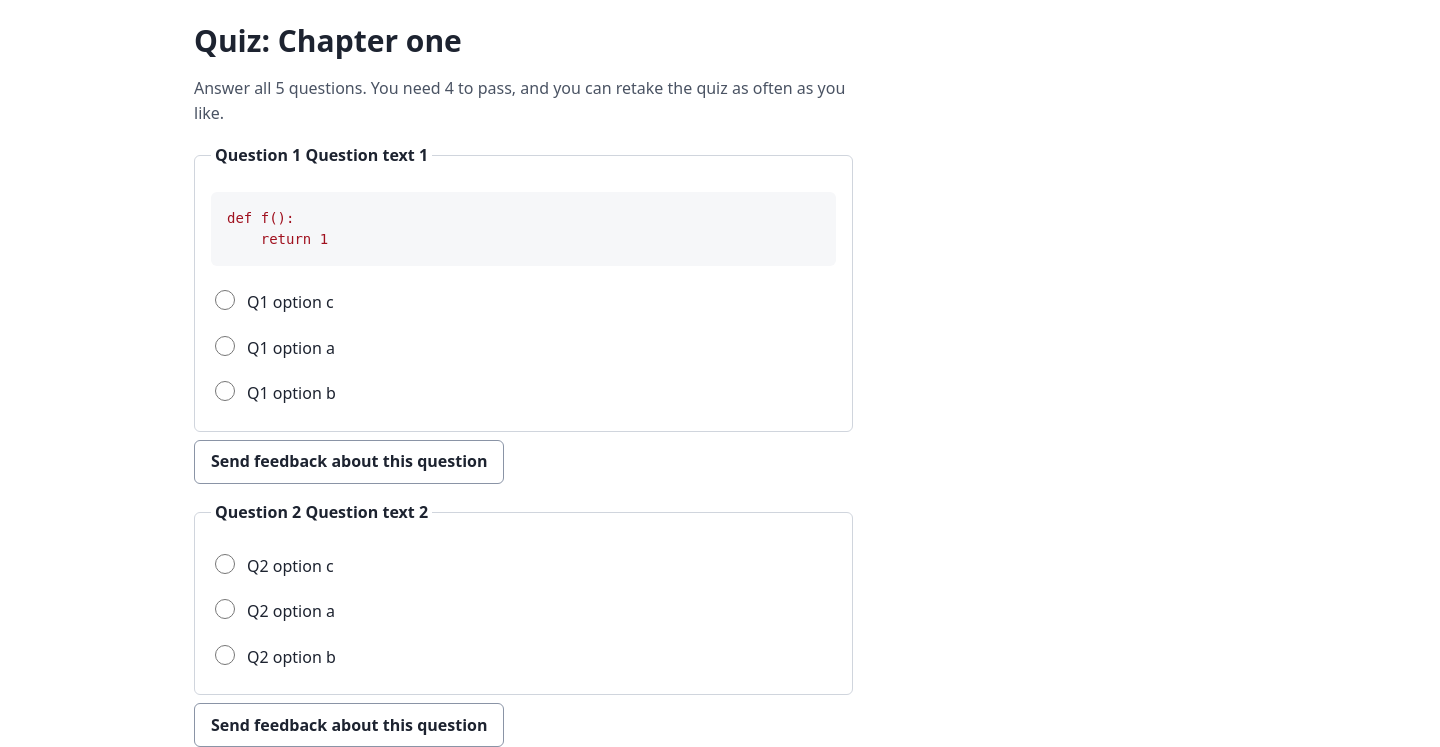
Test: no answer key reaches the snippet's highlighter, the page or the log › asks the highlighter for nothing more on the review after a failed attempt
Click the radio button labelled "Q1 option b" at (225, 392), box [215,382,235,402]
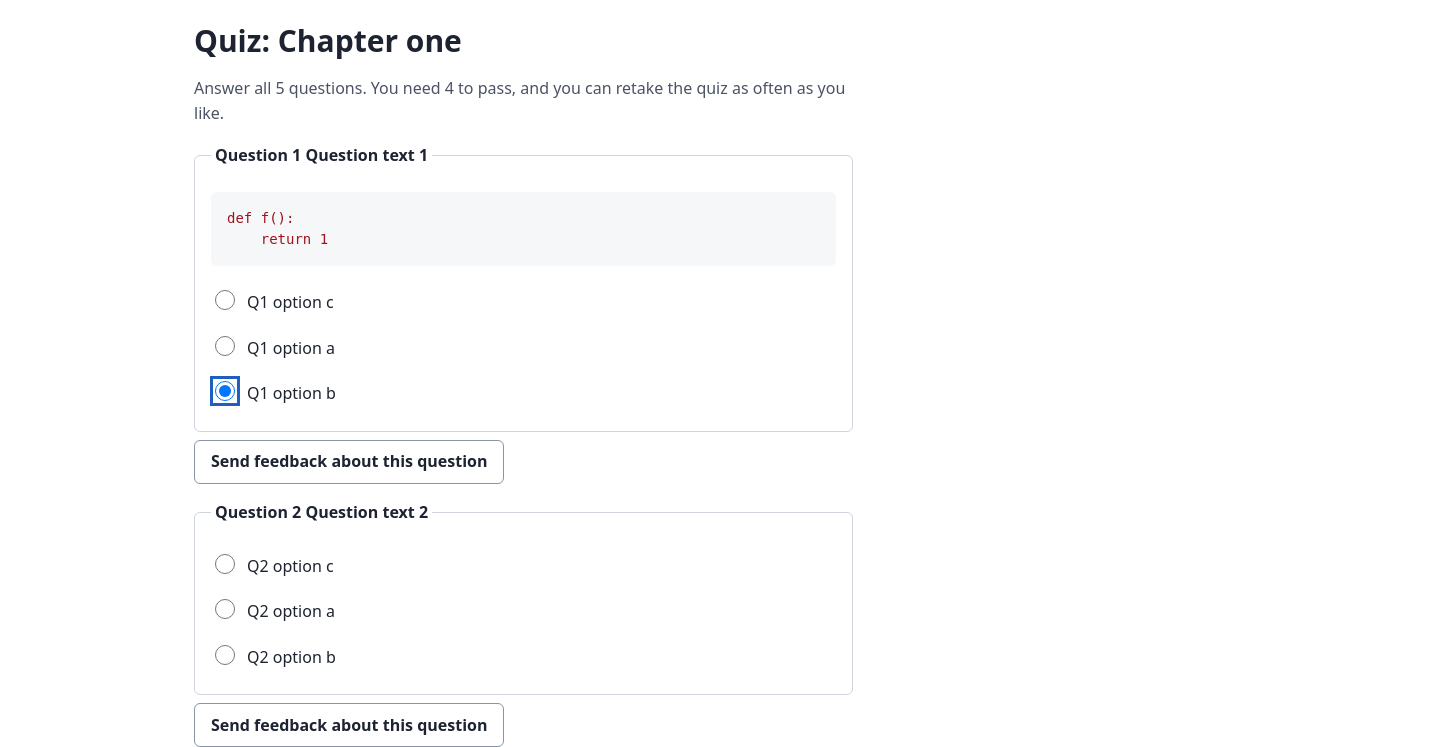
Click the radio button labelled "Q2 option b" at (225, 655), box [215,645,235,665]
(page scrolled)
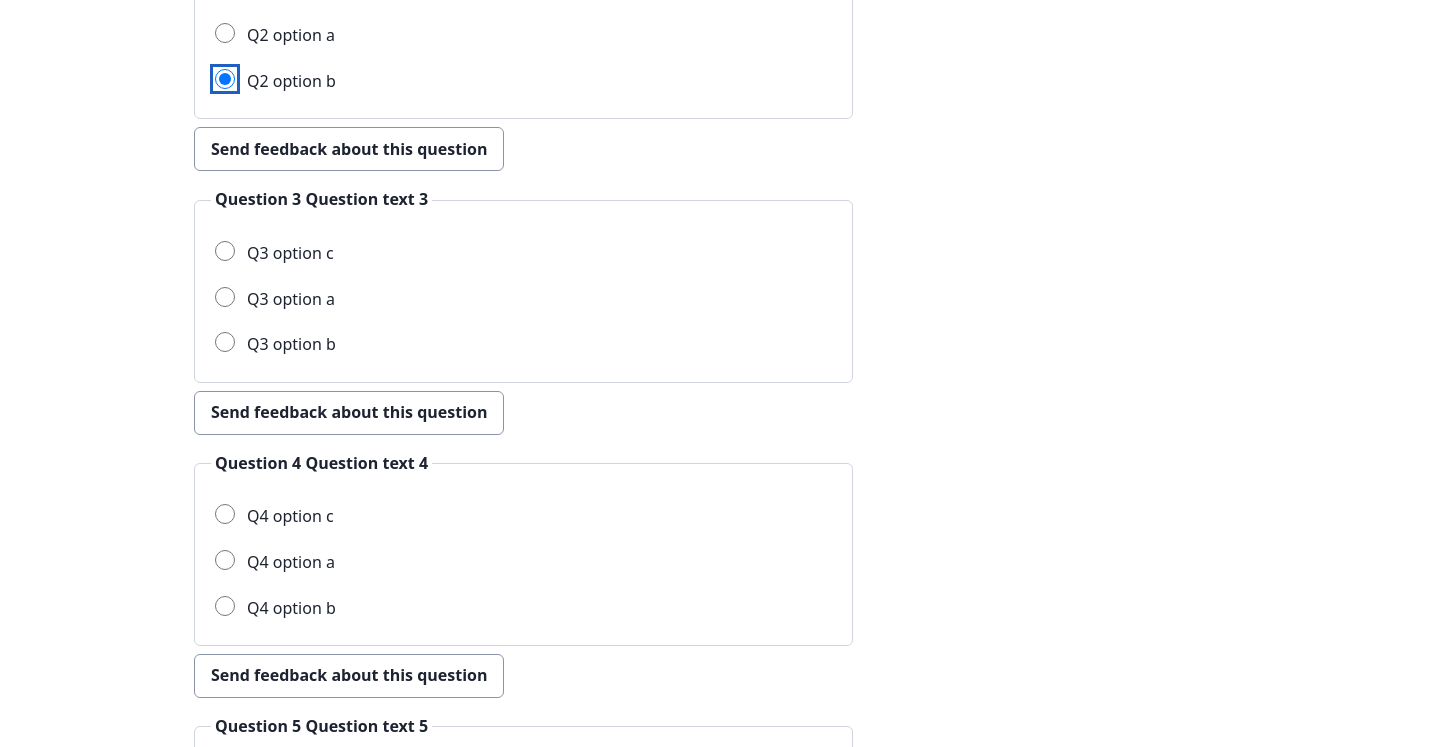
Click the radio button labelled "Q3 option b" at (225, 342), box [215,332,235,352]
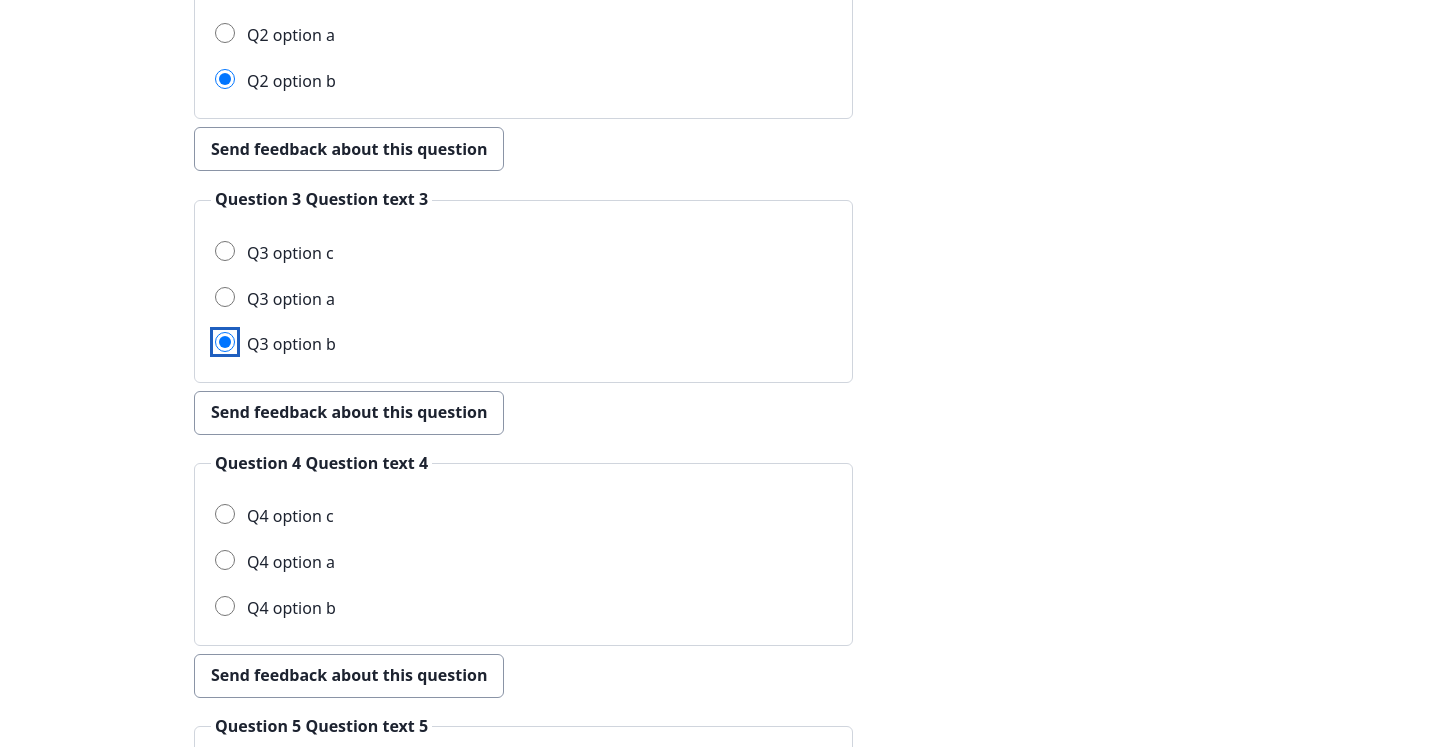
Click the radio button labelled "Q4 option b" at (225, 606), box [215,596,235,616]
(page scrolled)
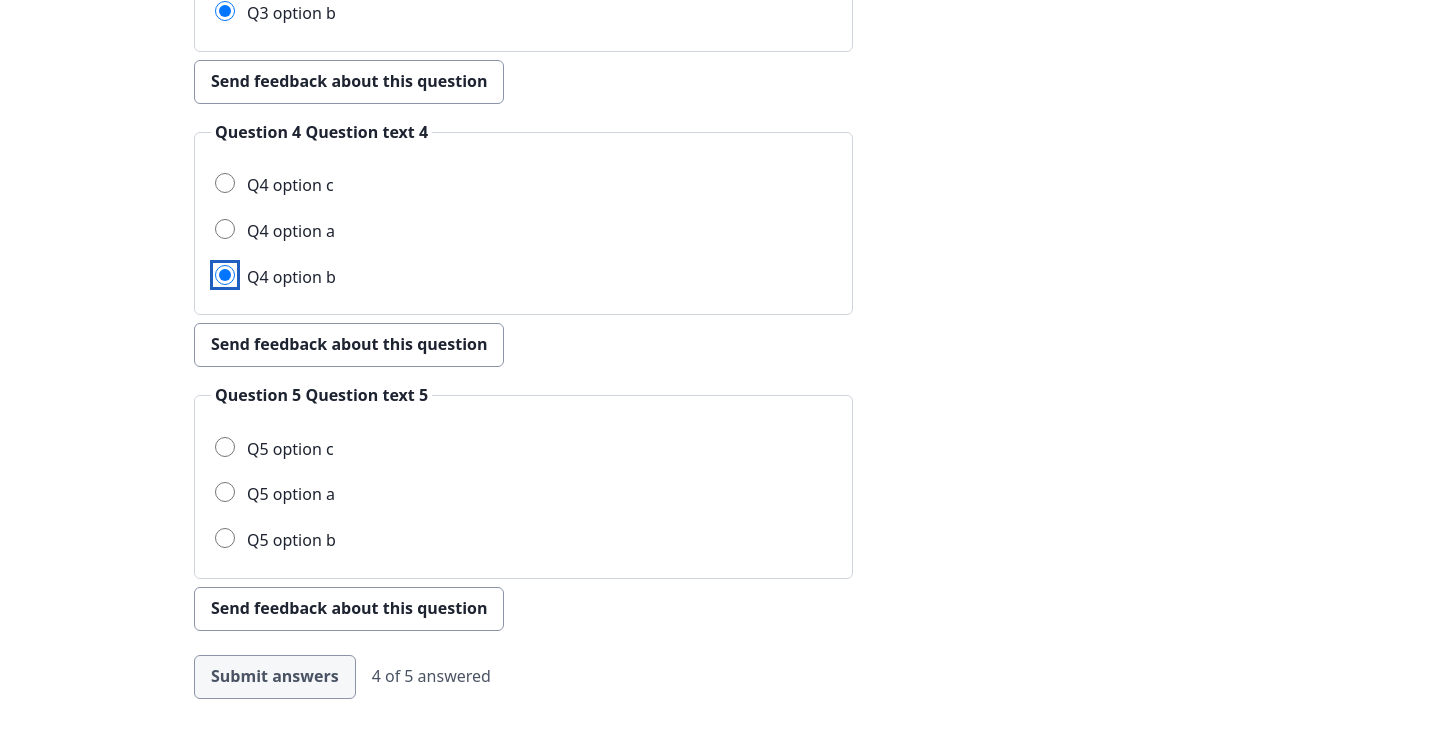
Click the radio button labelled "Q5 option b" at (225, 538), box [215,528,235,548]
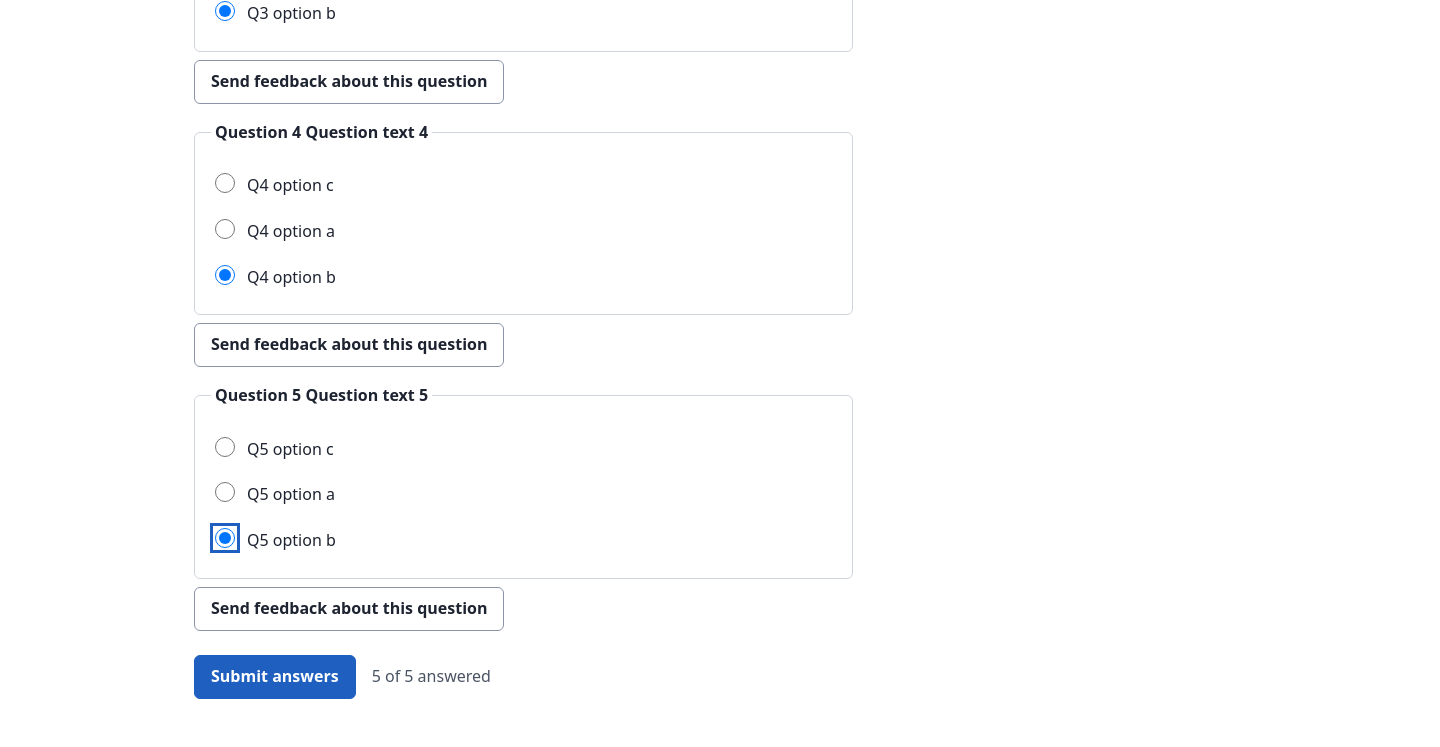
Click the button "Submit answers" at (275, 677), box [194,655,356,699]
(page scrolled)
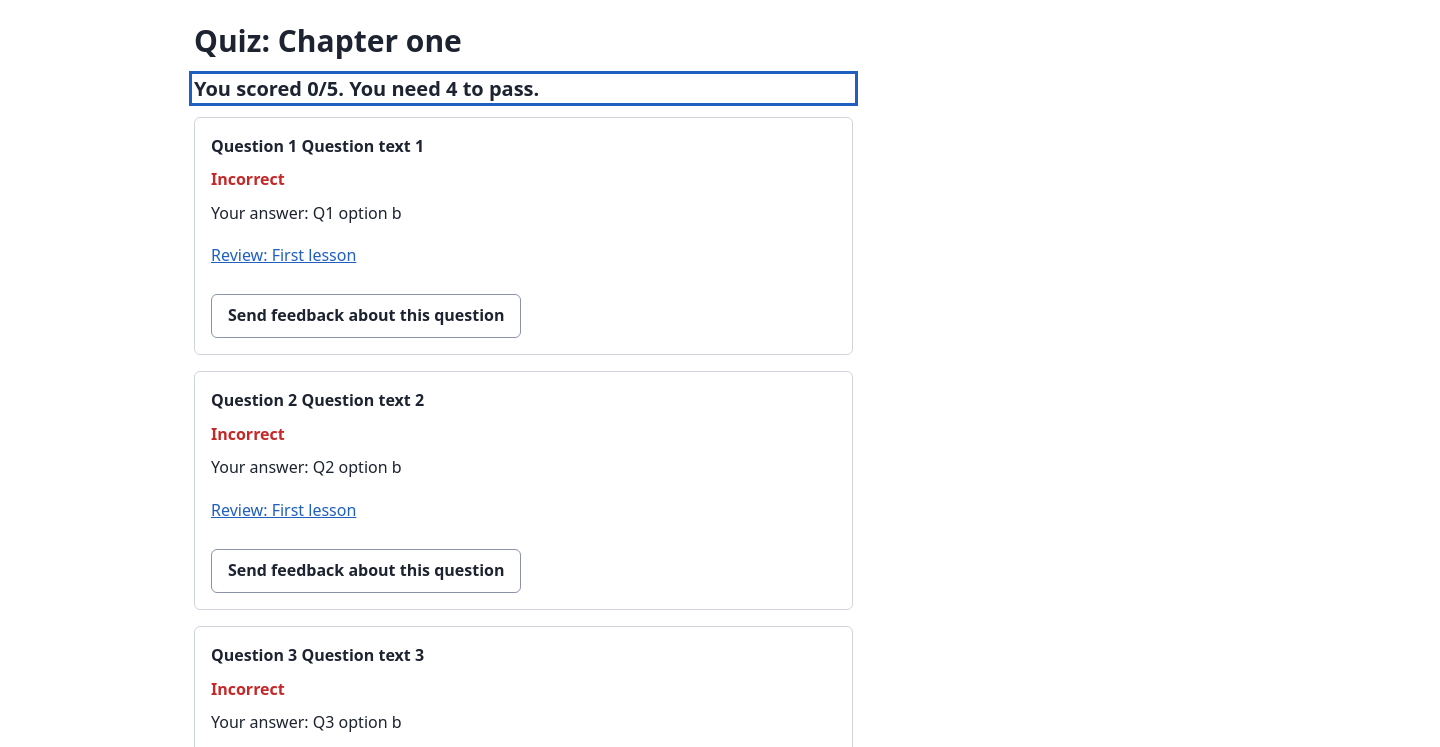
expect the heading "You scored 0/5. You need 4 to pass." is shown: met, box [194,74,539,102]
